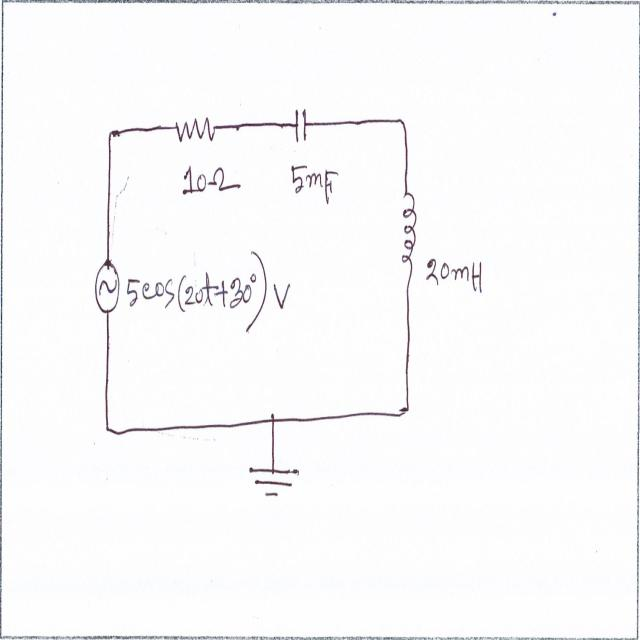ac_current: (91, 259, 121, 319)
capacitor: (293, 100, 308, 146)
ground: (248, 465, 302, 509)
inductor: (401, 178, 418, 282)
resistor: (174, 112, 216, 145)
